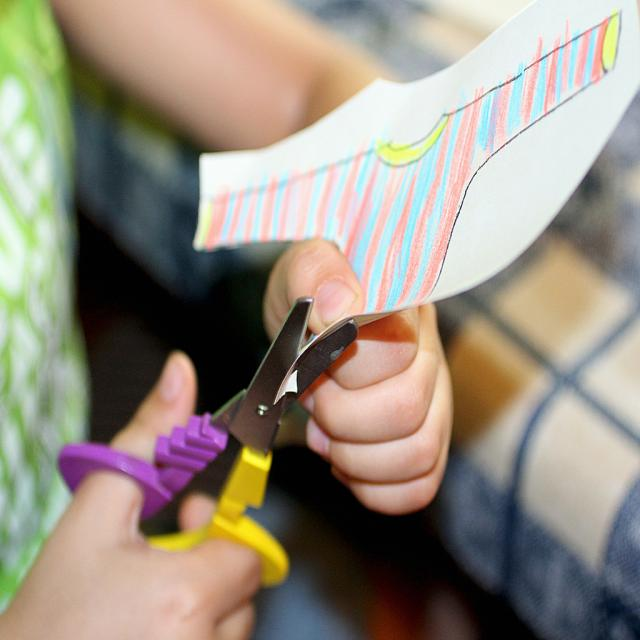scissors: (56, 294, 409, 588)
